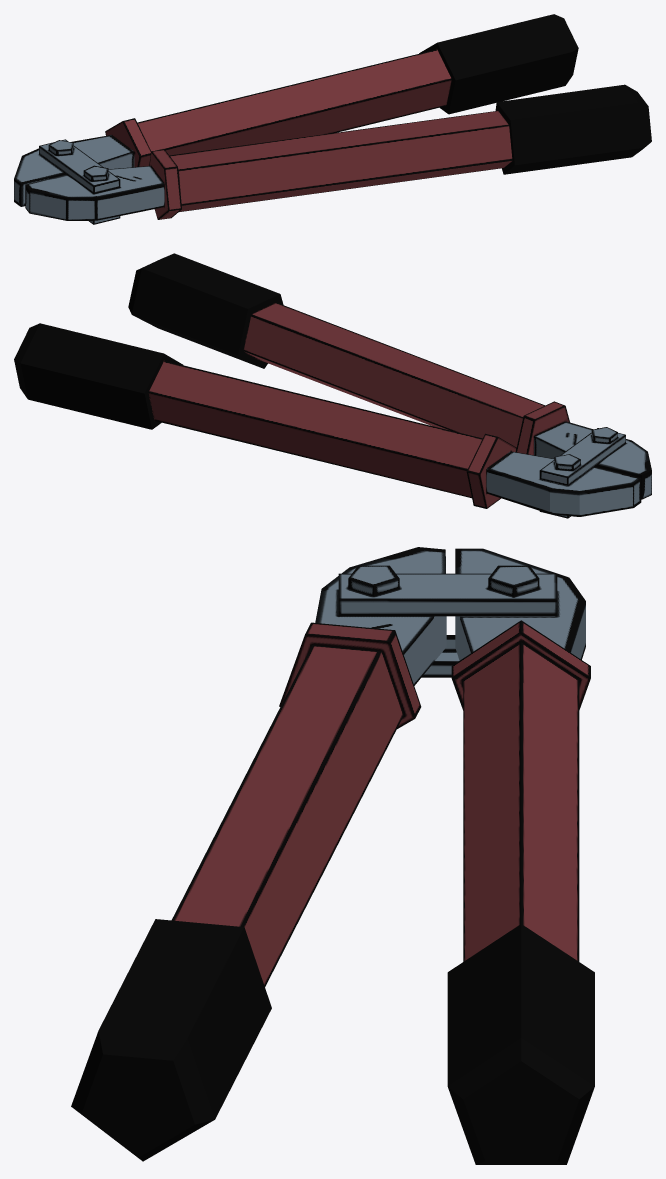
The model's file is pince_coupante.fbx.
The picture shows the model from 3 angles, top to bottom: view 1: azimuth 30°, elevation 25°; view 2: azimuth 150°, elevation 25°; view 3: azimuth 270°, elevation 25°; orthographic projection. The views are drawn at different scales.
Visible parts, largest first — view 1: Pince1; view 2: Pince1; view 3: Pince1.
Boxes of the visible parts, x1,y1,x2,y2 form: Pince1: (14,14,651,224); Pince1: (14,253,651,518); Pince1: (71,547,594,1164).
Size of the model in its own units: 116 by 13.81 by 46.87.
